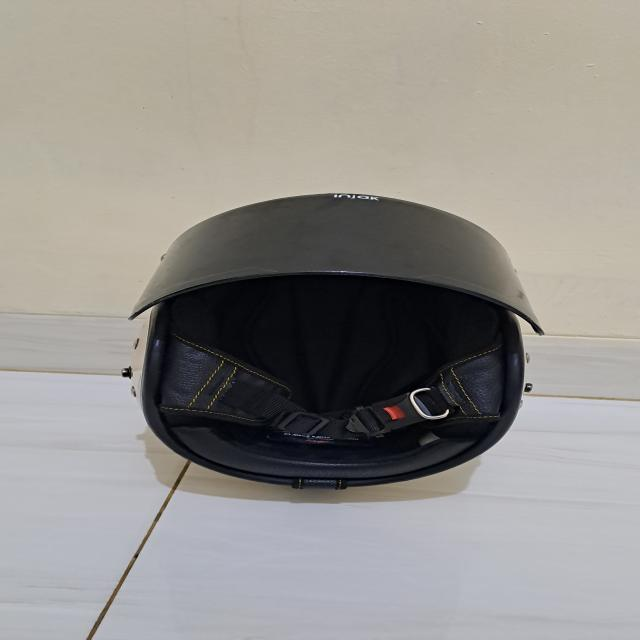Helm: (123, 179, 550, 496)
